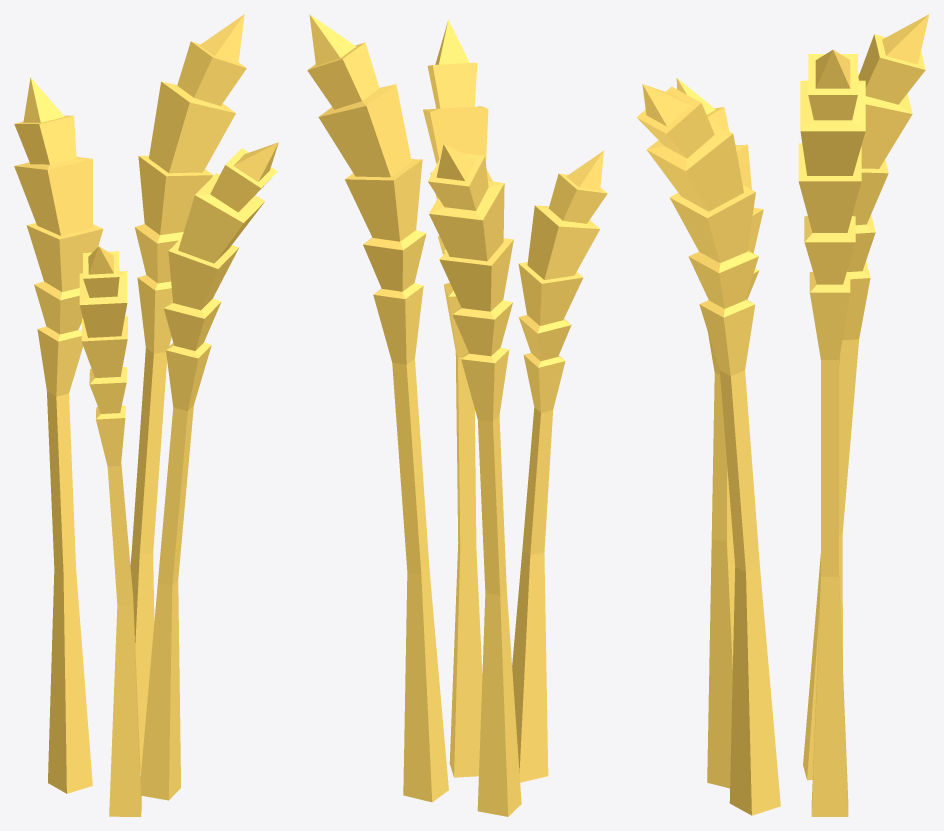
Rendered from Wheat.glb.
The picture shows the model from 3 angles, left to right: view 1: azimuth 30°, elevation 25°; view 2: azimuth 150°, elevation 25°; view 3: azimuth 270°, elevation 25°; orthographic projection. The views are drawn at different scales.
Visible parts, largest first — view 1: Wheat; view 2: Wheat; view 3: Wheat.
Part boxes in pixels (x1,y1,x2,y2): Wheat: (14,14,278,816); Wheat: (307,14,607,816); Wheat: (636,14,929,816).
Bounding box in the file's own units: 35.78 × 110 × 35.65.
